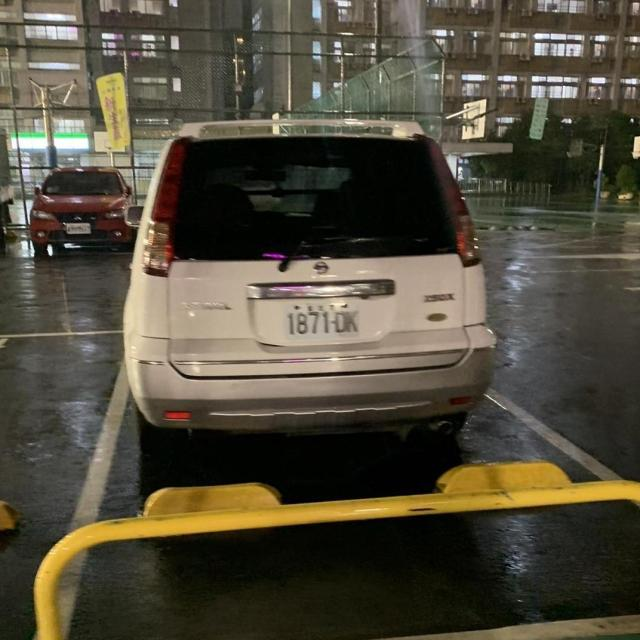W: (277, 298, 370, 344), (63, 217, 95, 239)
